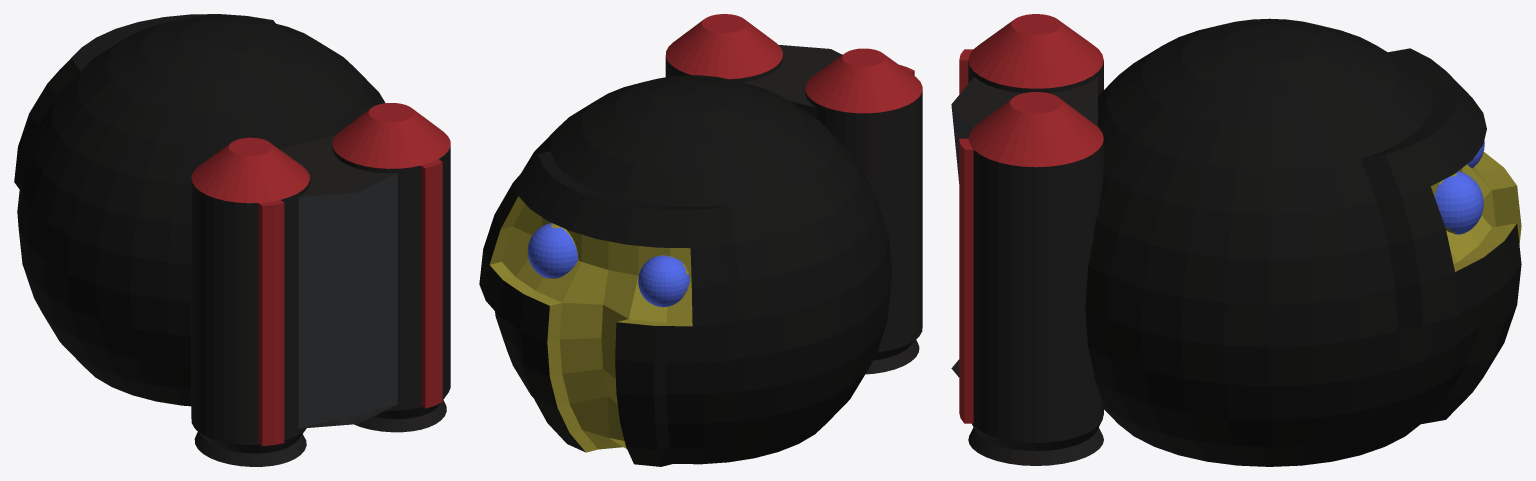
The model's file is Playermodel.fbx.
The picture shows the model from 3 angles, left to right: view 1: azimuth 30°, elevation 25°; view 2: azimuth 150°, elevation 25°; view 3: azimuth 270°, elevation 25°; orthographic projection. The views are drawn at different scales.
Visible parts, largest first — view 1: Kostka, Kula; view 2: Kula, Kostka; view 3: Kula, Kostka.
Boxes of the visible parts, <box> form: Kostka: <box>191,103,450,466</box>; Kula: <box>14,14,385,406</box>; Kula: <box>479,75,892,466</box>; Kostka: <box>665,14,922,374</box>; Kula: <box>1085,18,1521,466</box>; Kostka: <box>951,14,1103,465</box>.
Bounding box in the file's own units: 221 × 208 × 272.
